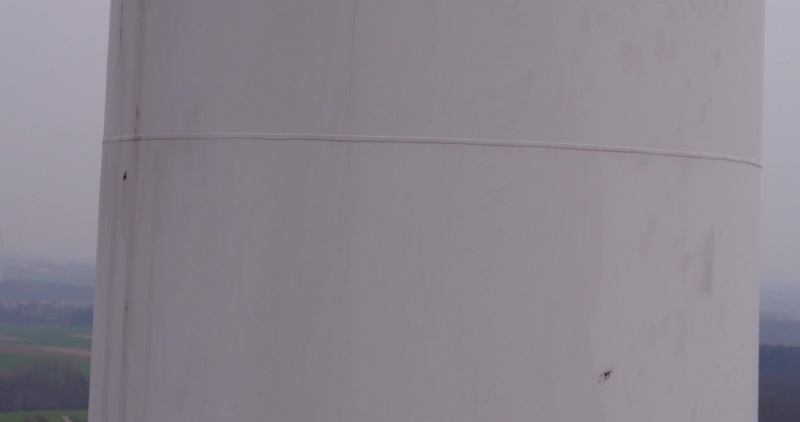weldseam: (87, 119, 766, 169)
